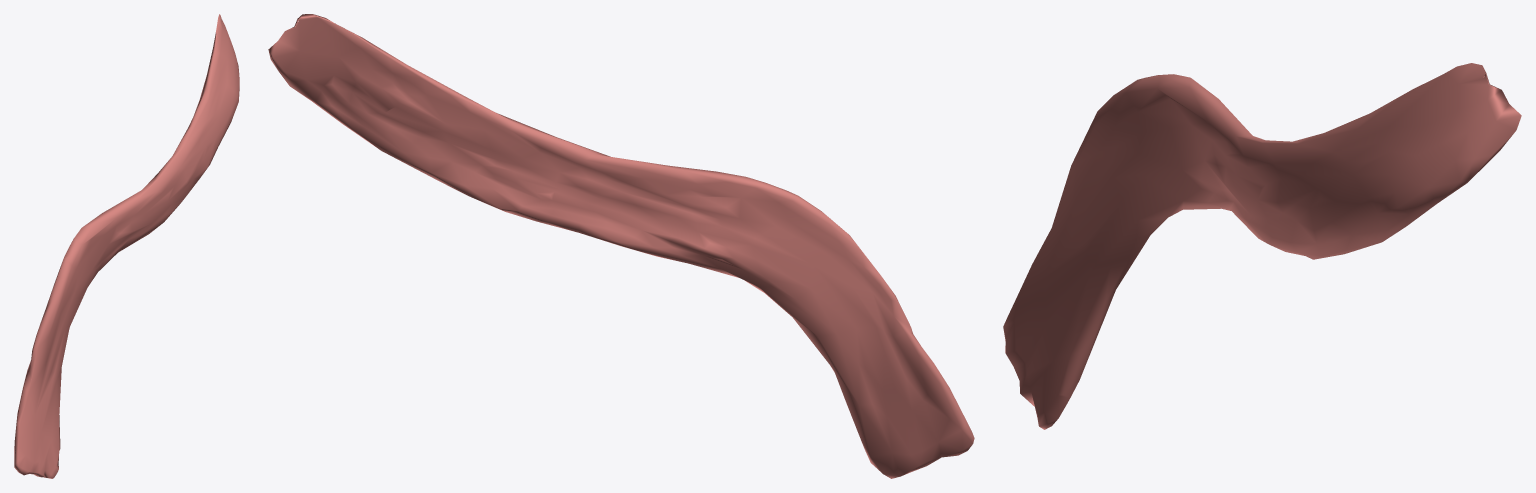
Rendered from fma46815_mm1122.glb.
The picture shows the model from 3 angles, left to right: view 1: azimuth 30°, elevation 25°; view 2: azimuth 150°, elevation 25°; view 3: azimuth 270°, elevation 25°; orthographic projection. The views are drawn at different scales.
Visible parts, largest first — view 1: FMA46815_MM1122; view 2: FMA46815_MM1122; view 3: FMA46815_MM1122.
Boxes of the visible parts, x1=… form: FMA46815_MM1122: x1=14, y1=14, x2=239, y2=478; FMA46815_MM1122: x1=268, y1=14, x2=974, y2=478; FMA46815_MM1122: x1=1003, y1=63, x2=1521, y2=429.
Bounding box in the file's own units: 0.0369 × 0.0333 × 0.0246.
